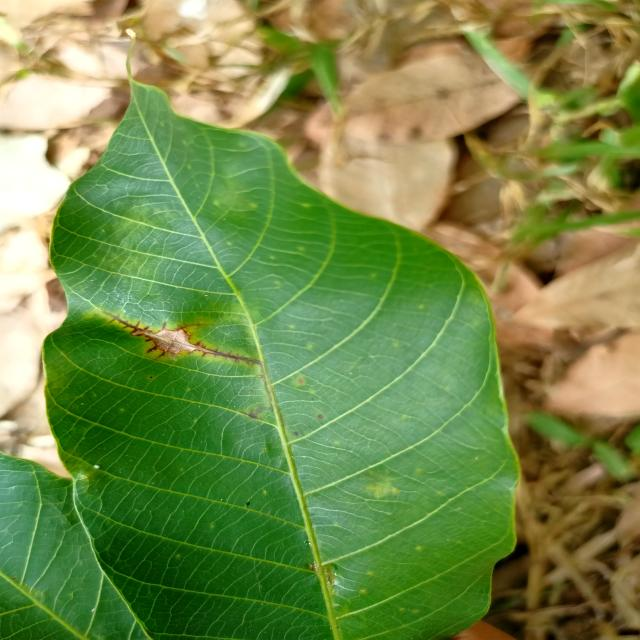Corynespora: (100, 309, 263, 366)
